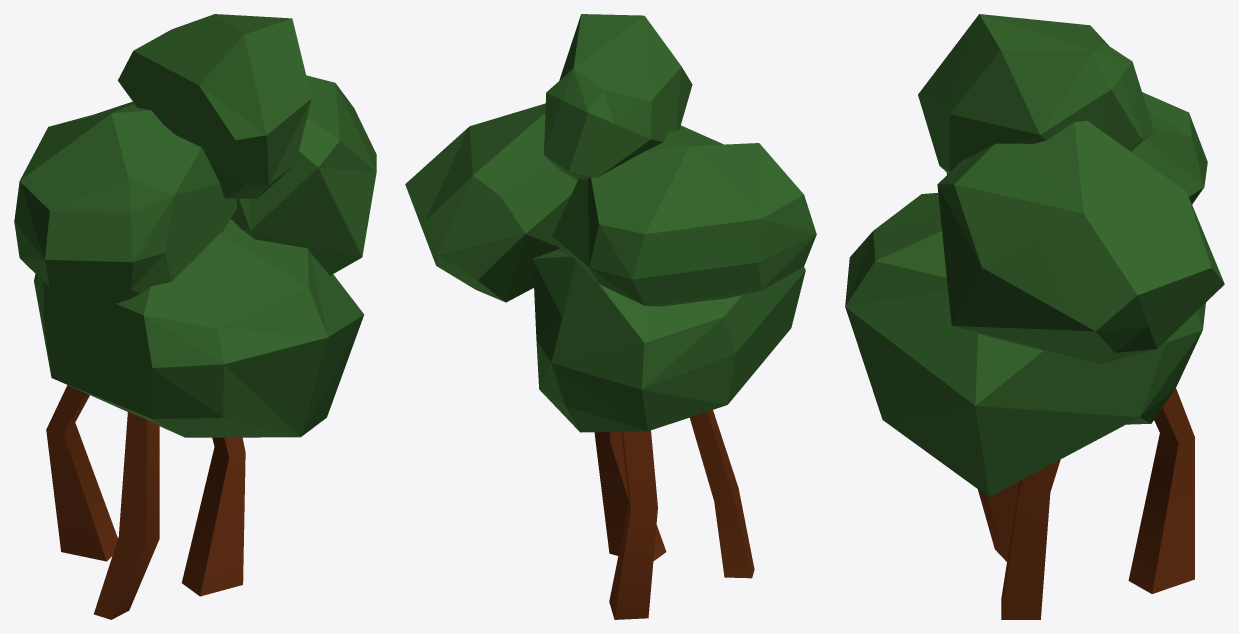
Rendered from bush_04.glb.
The picture shows the model from 3 angles, left to right: view 1: azimuth 30°, elevation 25°; view 2: azimuth 150°, elevation 25°; view 3: azimuth 270°, elevation 25°; orthographic projection. The views are drawn at different scales.
Visible parts, largest first — view 1: Bush_temp_climate_004; view 2: Bush_temp_climate_004; view 3: Bush_temp_climate_004.
Boxes of the visible parts, bbox=[...] form: Bush_temp_climate_004: bbox=[14, 14, 376, 619]; Bush_temp_climate_004: bbox=[405, 14, 816, 619]; Bush_temp_climate_004: bbox=[845, 14, 1224, 619].
Size of the model in its own units: 1.48 by 2.1 by 1.2.
Materials: 1 (1 with a texture image).
